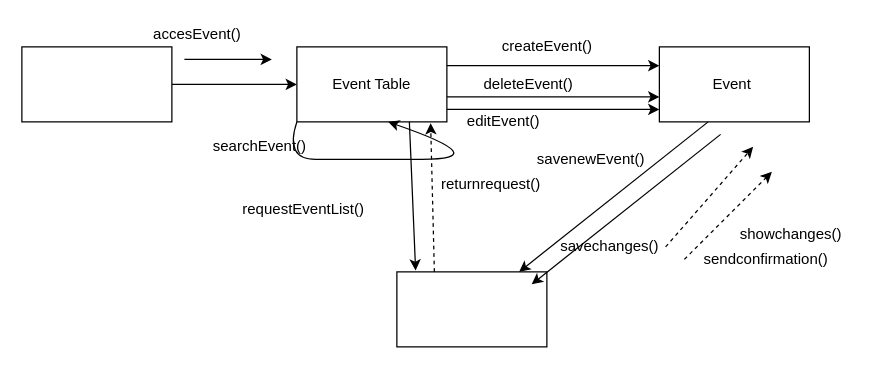
This 875x369 diagram has some shape labels left out. The shapes that lost their labels are listed below. From the top down, each one's centre as x and y in pixels, then its label:
the point at 96,84: User Page
the point at 471,309: Server
